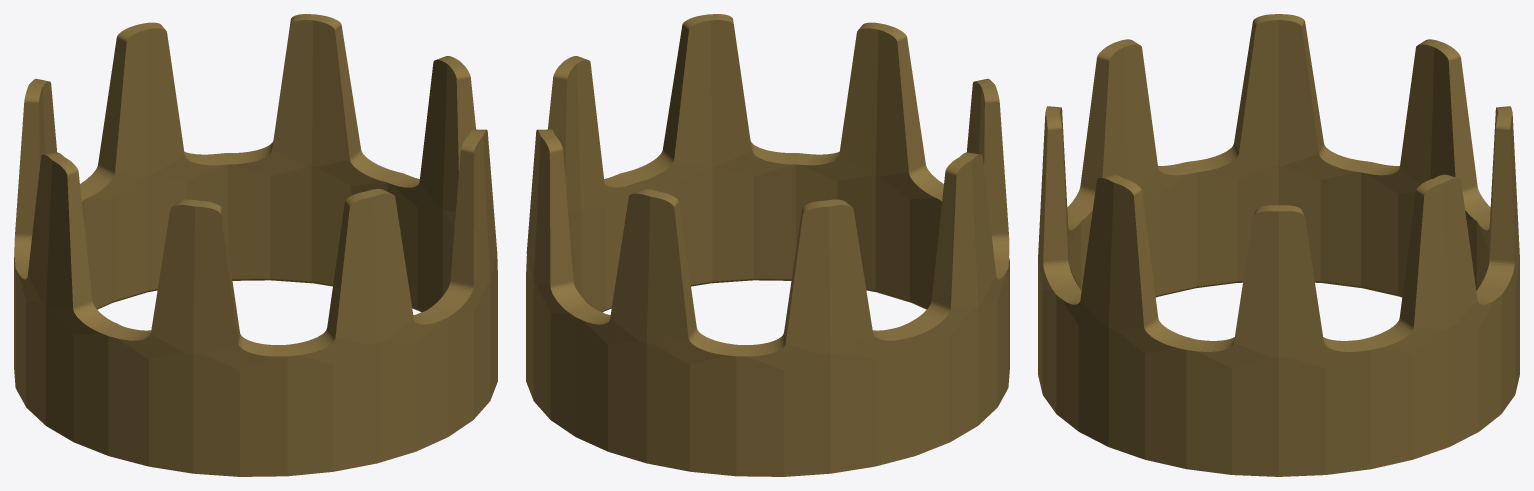
Rendered from Crown.fbx.
3 renders of one model, left to right at view 1: azimuth 30°, elevation 25°; view 2: azimuth 150°, elevation 25°; view 3: azimuth 270°, elevation 25°, orthographic.
Visible parts, largest first — view 1: Cylinder; view 2: Cylinder; view 3: Cylinder.
Part boxes in pixels (x1,y1,x2,y2): Cylinder: [14, 14, 497, 476]; Cylinder: [526, 14, 1009, 476]; Cylinder: [1038, 14, 1519, 476].
Size of the model in its own units: 200 by 120 by 200.
